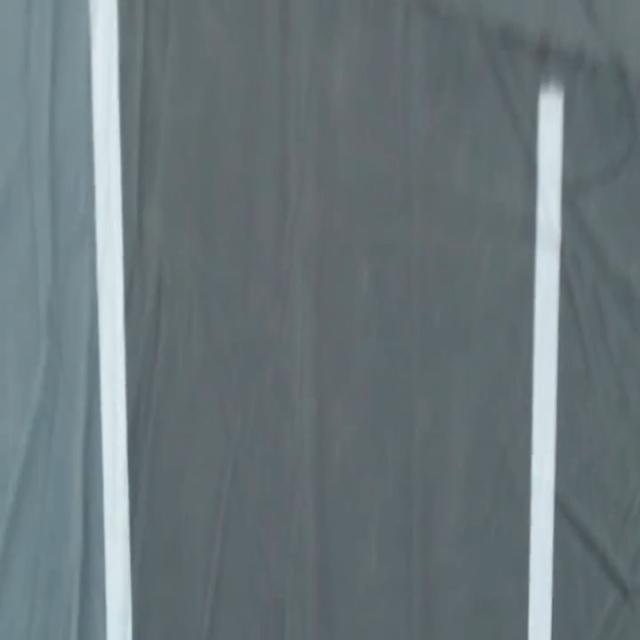center: (527, 77, 564, 639)
left: (88, 0, 131, 639)
